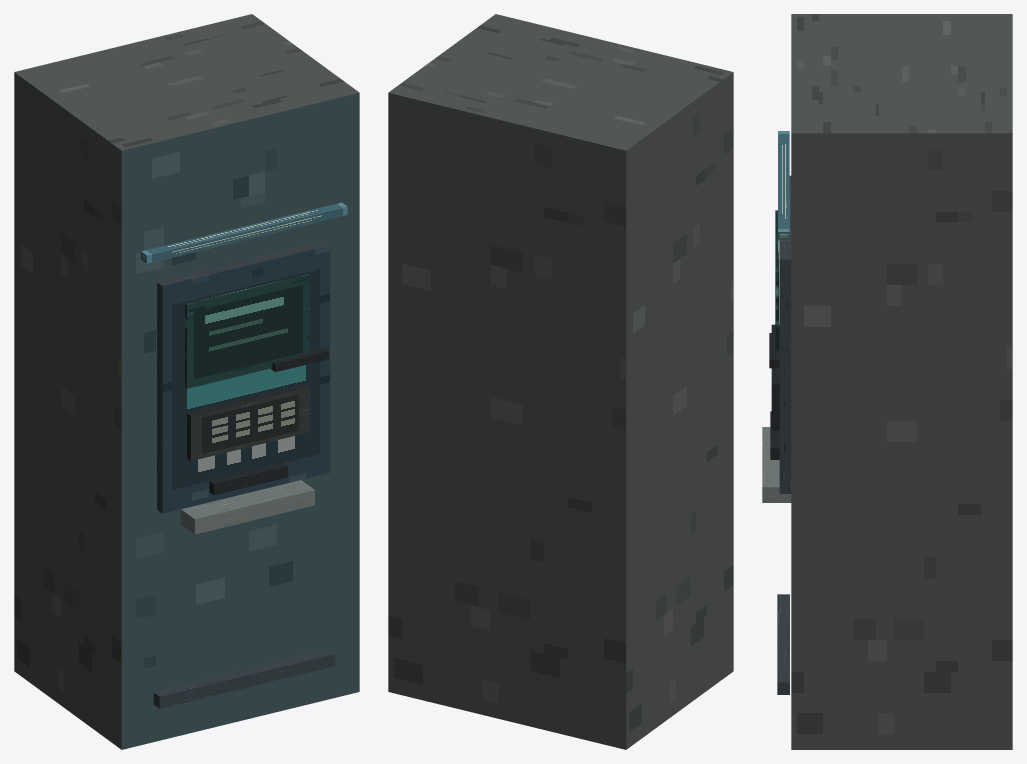
Rendered from cajero_atm_c02.glb.
3 views of the same model, side by side, from view 1: azimuth 30°, elevation 25°; view 2: azimuth 150°, elevation 25°; view 3: azimuth 270°, elevation 25° (orthographic). The views are drawn at different scales.
Visible parts, largest first — view 1: cajero_atm_c02; view 2: cajero_atm_c02; view 3: cajero_atm_c02.
Part boxes in pixels (<box>): cajero_atm_c02: <box>14,14,359,749</box>; cajero_atm_c02: <box>388,14,733,749</box>; cajero_atm_c02: <box>762,14,1012,749</box>.
Size of the model in its own units: 0.7437 by 1.79 by 0.6584.
1 material, 1 textured.
